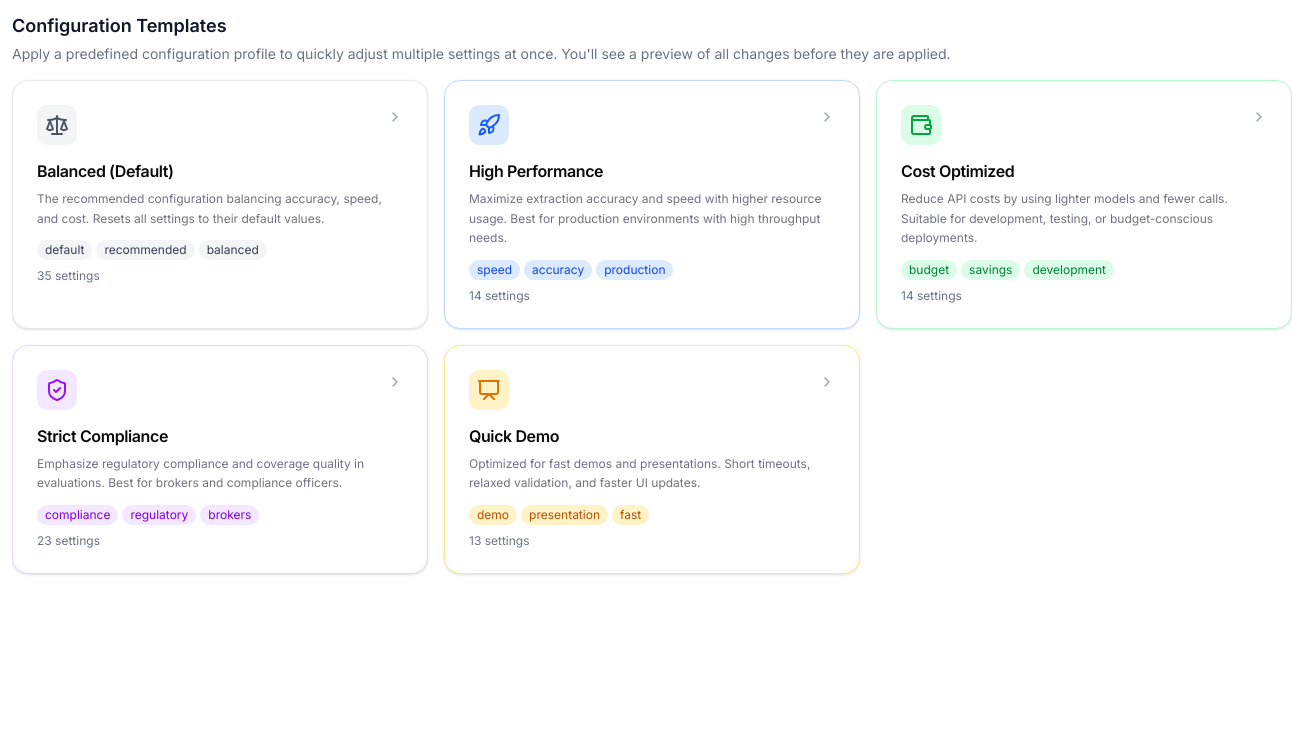
Test: SettingsTemplatesPanel › should show diff preview when template is selected
This screenshot has width=1292, height=732.
# Click on High Performance template
Click the heading "High Performance": (536, 171) [469,161,603,181]
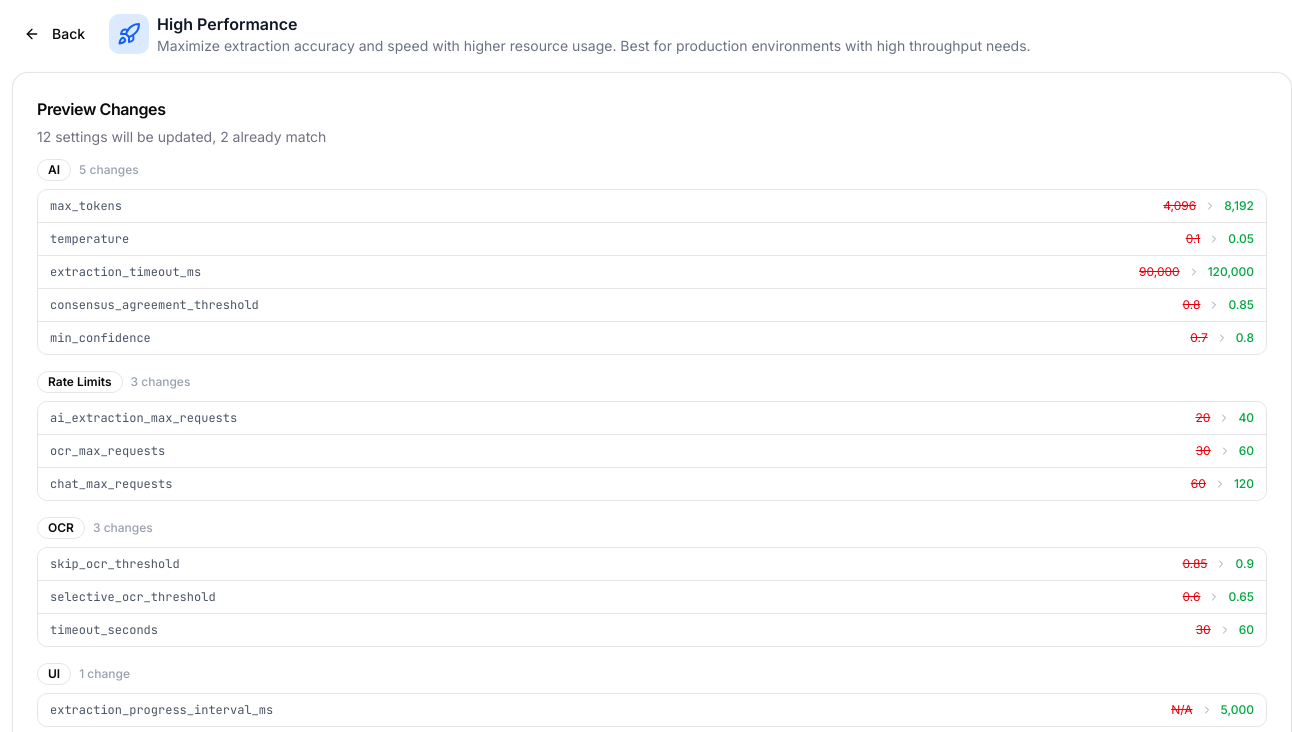
Check: the heading "Preview Changes" is shown, box [37,99,166,119]
Check: the button "Back" is shown, box [12,16,97,52]
